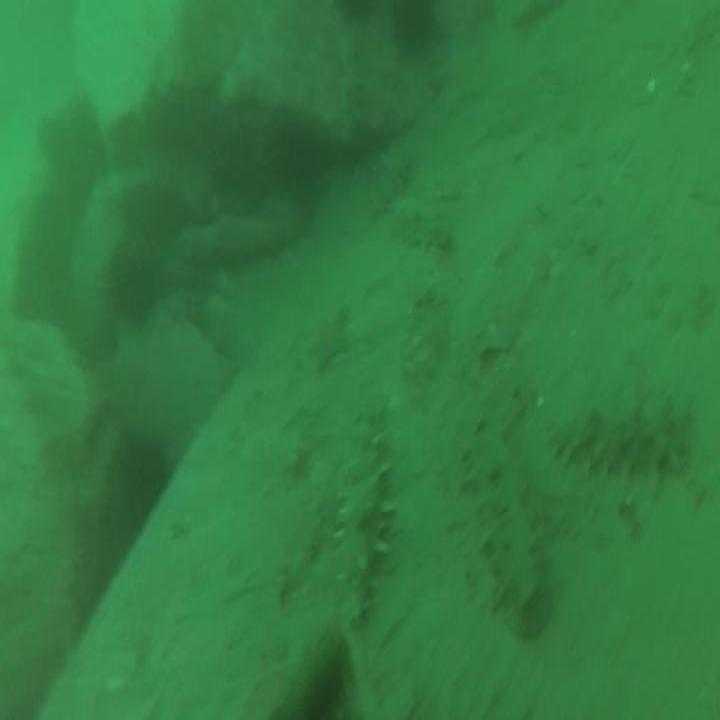echinus: (107, 450, 167, 554), (56, 105, 101, 187), (109, 253, 158, 326), (268, 122, 315, 194), (394, 2, 435, 48)
holothurian: (459, 405, 542, 617), (554, 400, 696, 482), (337, 398, 389, 615), (404, 282, 439, 394), (392, 196, 455, 252), (377, 137, 411, 208)
starfish: (306, 308, 349, 369)
